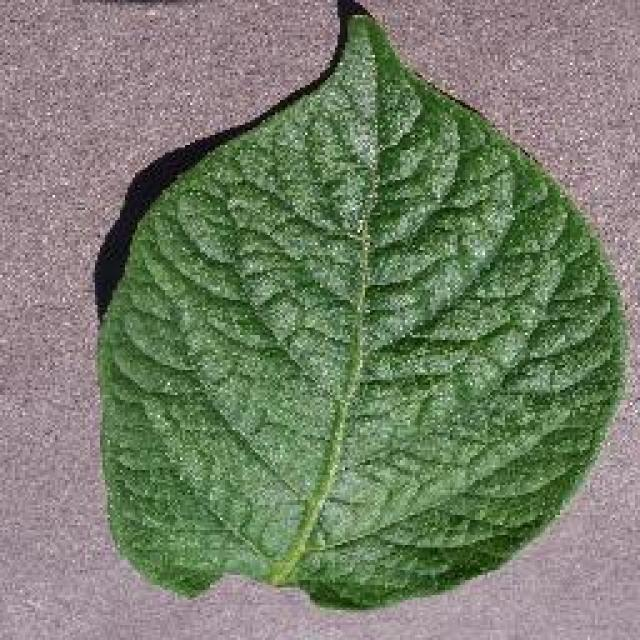Potato: (92, 0, 629, 612)
